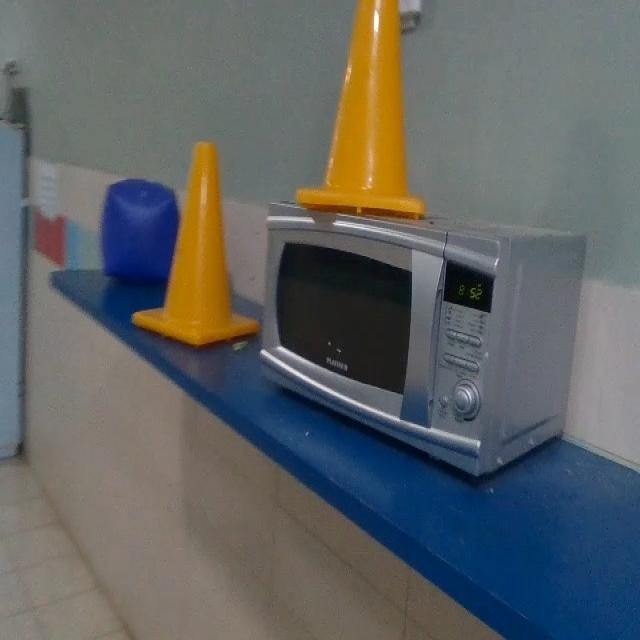cone: (295, 0, 425, 217), (134, 140, 260, 348)
cube: (102, 178, 182, 281)
